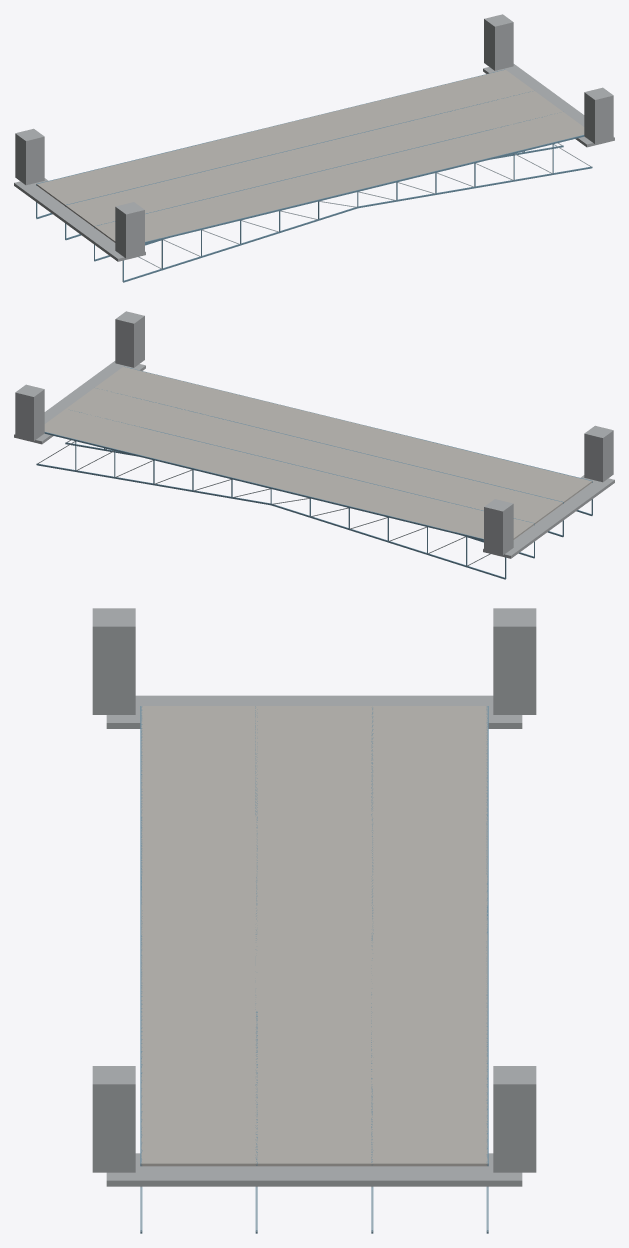
Rendered from bridge.glb.
3 renders of one model, top to bottom at view 1: azimuth 30°, elevation 25°; view 2: azimuth 150°, elevation 25°; view 3: azimuth 270°, elevation 25°, orthographic. The views are drawn at different scales.
Parts seen in each view (by area): view 1: deck_002, deck_001, bearing_block_001, bridge_house_004, bridge_house_001, bridge_house_002, bridge_house_003, bearing_block_002, leaf_upper_chord_005, leaf_upper_chord_001; view 2: deck_002, deck_001, bearing_block_001, bridge_house_003, bridge_house_001, bridge_house_002, bridge_house_004, bearing_block_002, leaf_upper_chord_008, leaf_upper_chord_004; view 3: deck_002, deck_001, bearing_block_002, bearing_block_001, bridge_house_001, bridge_house_002, bridge_house_003, bridge_house_004.
Part boxes in pixels (x1=…): deck_002: x1=271, y1=69, x2=584, y2=189; deck_001: x1=36, y1=127, x2=356, y2=242; bearing_block_001: x1=14, y1=178, x2=145, y2=261; bridge_house_004: x1=484, y1=14, x2=513, y2=70; bridge_house_001: x1=115, y1=202, x2=144, y2=258; bridge_house_002: x1=15, y1=128, x2=44, y2=185; bridge_house_003: x1=584, y1=87, x2=613, y2=143; bearing_block_002: x1=483, y1=64, x2=614, y2=147; leaf_upper_chord_005: x1=358, y1=135, x2=584, y2=191; leaf_upper_chord_001: x1=145, y1=190, x2=357, y2=243; deck_002: x1=44, y1=366, x2=357, y2=486; deck_001: x1=272, y1=424, x2=592, y2=539; bearing_block_001: x1=483, y1=475, x2=614, y2=558; bridge_house_003: x1=115, y1=311, x2=144, y2=367; bridge_house_001: x1=584, y1=425, x2=613, y2=482; bridge_house_002: x1=484, y1=499, x2=513, y2=555; bridge_house_004: x1=15, y1=384, x2=44, y2=440; bearing_block_002: x1=14, y1=361, x2=145, y2=444; leaf_upper_chord_008: x1=44, y1=432, x2=270, y2=488; leaf_upper_chord_004: x1=271, y1=487, x2=483, y2=540; deck_002: x1=141, y1=934, x2=487, y2=1166; deck_001: x1=141, y1=706, x2=487, y2=934; bearing_block_002: x1=106, y1=1153, x2=522, y2=1186; bearing_block_001: x1=106, y1=695, x2=522, y2=728; bridge_house_001: x1=92, y1=608, x2=135, y2=714; bridge_house_002: x1=493, y1=608, x2=536, y2=714; bridge_house_003: x1=92, y1=1066, x2=135, y2=1172; bridge_house_004: x1=493, y1=1066, x2=536, y2=1172.
Size of the model in its own units: 106 by 16.15 by 41.
